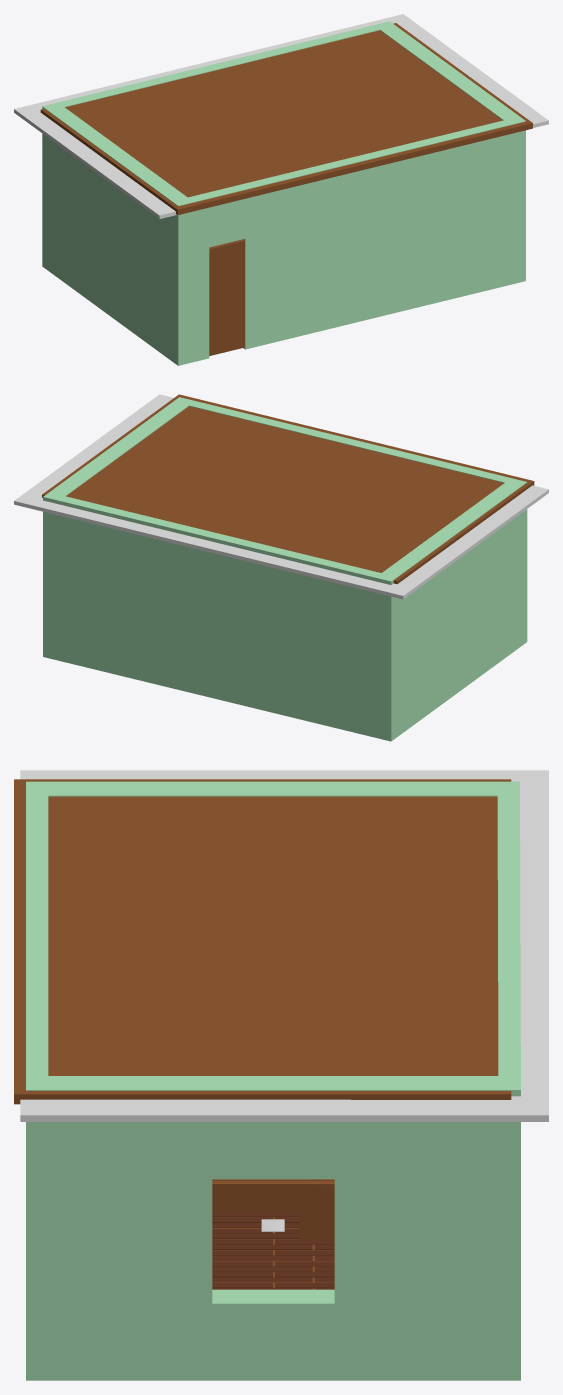
File: oficina.fbx
3 renders of one model, top to bottom at view 1: azimuth 30°, elevation 25°; view 2: azimuth 150°, elevation 25°; view 3: azimuth 270°, elevation 25°, orthographic. The views are drawn at different scales.
Parts seen in each view (by area): view 1: Cube.001, Techo, Cube.012, Cube.003; view 2: Cube.001, Techo, Cube.012; view 3: Cube.001, Techo, Cube.012, Cube.013, Cube.002, Cube.004.
Boxes of the visible parts, <box> form: Cube.001: <box>42,21,525,365</box>; Techo: <box>40,23,532,214</box>; Cube.012: <box>14,14,548,219</box>; Cube.003: <box>209,239,244,355</box>; Cube.001: <box>43,397,527,741</box>; Techo: <box>42,394,534,584</box>; Cube.012: <box>14,394,548,599</box>; Cube.001: <box>26,781,520,1380</box>; Techo: <box>14,779,511,1104</box>; Cube.012: <box>20,770,548,1121</box>; Cube.013: <box>212,1212,334,1289</box>; Cube.002: <box>212,1179,334,1240</box>; Cube.004: <box>212,1217,334,1289</box>.
Bounding box in the file's own units: 764 × 348 × 500.
